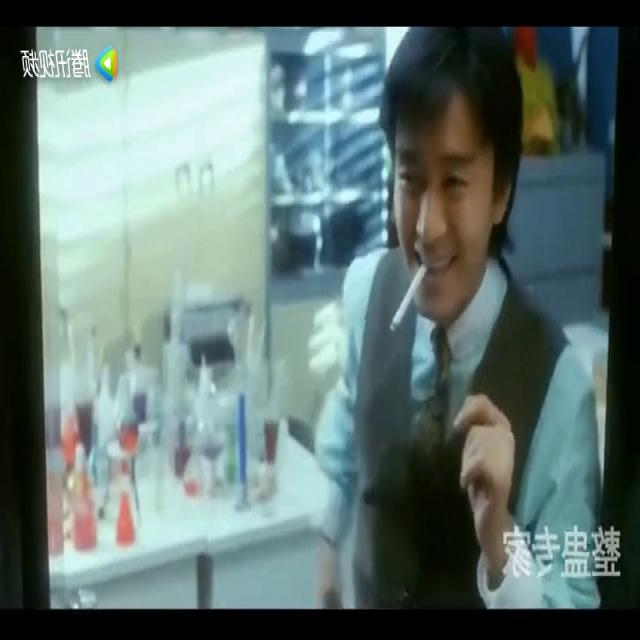smoking: (387, 265, 428, 333)
